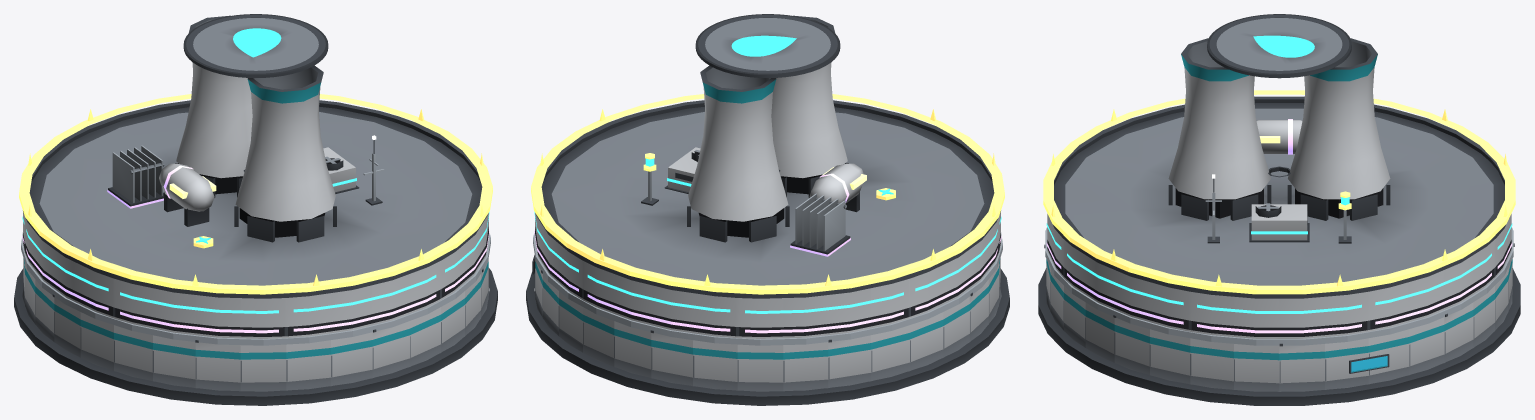
The model's file is atmo_processor_s.glb.
3 views of the same model, side by side, from view 1: azimuth 30°, elevation 25°; view 2: azimuth 150°, elevation 25°; view 3: azimuth 270°, elevation 25° (orthographic).
Parts seen in each view (by area): view 1: Roof, Base, L4, Wall_21, Wall_20, Wall_22, Wall_19, Wall_23, Wall_18, Wall_24, Upper_21, Upper_22 (+28 smaller); view 2: Roof, Base, L4, Wall_10, Wall_11, Wall_09, Wall_12, Wall_08, Wall_13, Wall_07, Upper_10, Upper_09 (+30 smaller); view 3: Roof, Base, L3, Wall_00, Wall_31, Wall_30, Wall_29, Wall_01, Wall_28, Wall_03, Upper_00, Upper_01 (+29 smaller).
Boxes of the visible parts, x1,y1,x2,y2 form: Roof: [23, 14, 487, 298]; Base: [14, 268, 497, 405]; L4: [107, 145, 216, 226]; Wall_21: [240, 344, 286, 391]; Wall_20: [195, 340, 240, 391]; Wall_22: [286, 340, 330, 390]; Wall_19: [152, 335, 195, 387]; Wall_23: [331, 332, 372, 386]; Wall_18: [114, 325, 152, 381]; Wall_24: [372, 321, 409, 377]; Upper_21: [240, 298, 286, 338]; Upper_22: [286, 293, 330, 337]; Roof: [536, 14, 1000, 298]; Base: [526, 268, 1009, 405]; L4: [790, 163, 866, 256]; Wall_10: [737, 344, 783, 391]; Wall_11: [783, 342, 828, 391]; Wall_09: [693, 340, 737, 390]; Wall_12: [828, 335, 870, 387]; Wall_08: [650, 330, 692, 386]; Wall_13: [871, 325, 909, 381]; Wall_07: [614, 321, 651, 377]; Upper_10: [737, 298, 783, 338]; Upper_09: [693, 293, 737, 337]; Roof: [1053, 14, 1505, 298]; Base: [1038, 268, 1520, 405]; L3: [1249, 166, 1309, 242]; Wall_00: [1279, 343, 1324, 391]; Wall_31: [1234, 344, 1279, 391]; Wall_30: [1190, 338, 1233, 389]; Wall_29: [1149, 329, 1190, 384]; Wall_01: [1325, 338, 1368, 389]; Wall_28: [1113, 315, 1149, 375]; Wall_03: [1409, 317, 1444, 375]; Upper_00: [1279, 297, 1324, 338]; Upper_01: [1324, 291, 1368, 336].
Bounding box in the file's own units: 11.74 × 6.98 × 11.74.
